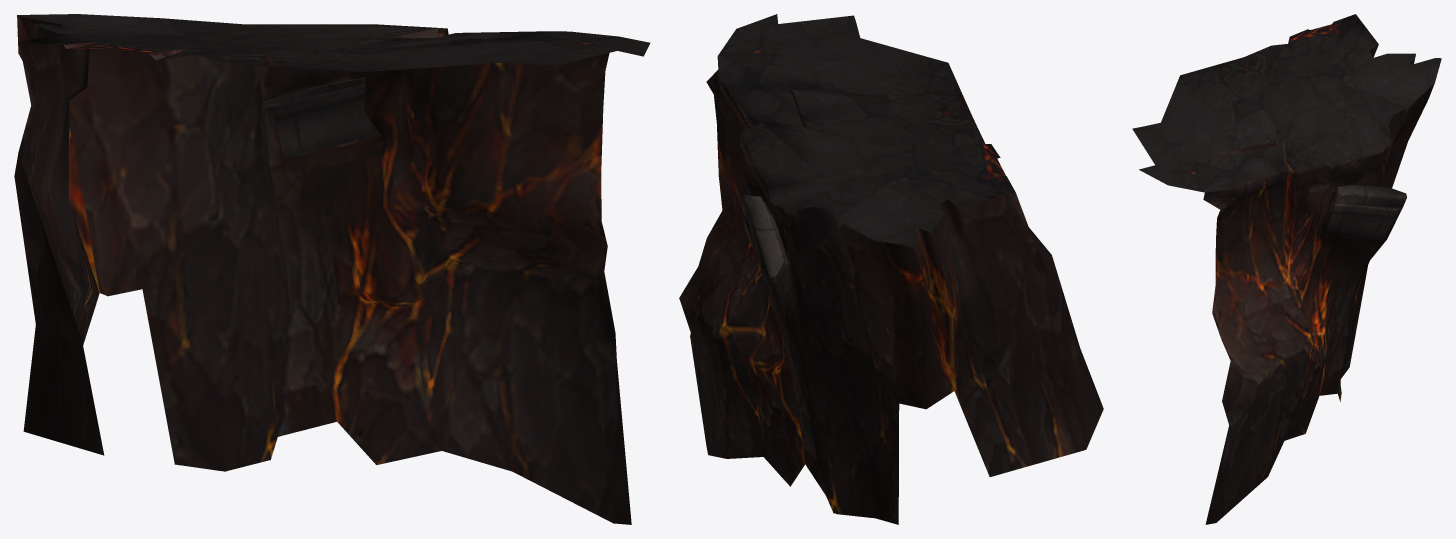
File: S2_Build_XSC106_L15.FBX
The picture shows the model from 3 angles, left to right: view 1: azimuth 30°, elevation 25°; view 2: azimuth 150°, elevation 25°; view 3: azimuth 270°, elevation 25°; orthographic projection. The views are drawn at different scales.
Visible parts, largest first — view 1: S2_Build_XSC106_L15; view 2: S2_Build_XSC106_L15; view 3: S2_Build_XSC106_L15.
Boxes of the visible parts, left/top/right/bottom form: S2_Build_XSC106_L15: left=14, top=14, right=650, bottom=524; S2_Build_XSC106_L15: left=679, top=14, right=1103, bottom=524; S2_Build_XSC106_L15: left=1132, top=14, right=1441, bottom=524.
Size of the model in its own units: 6994 by 6602 by 5167.
